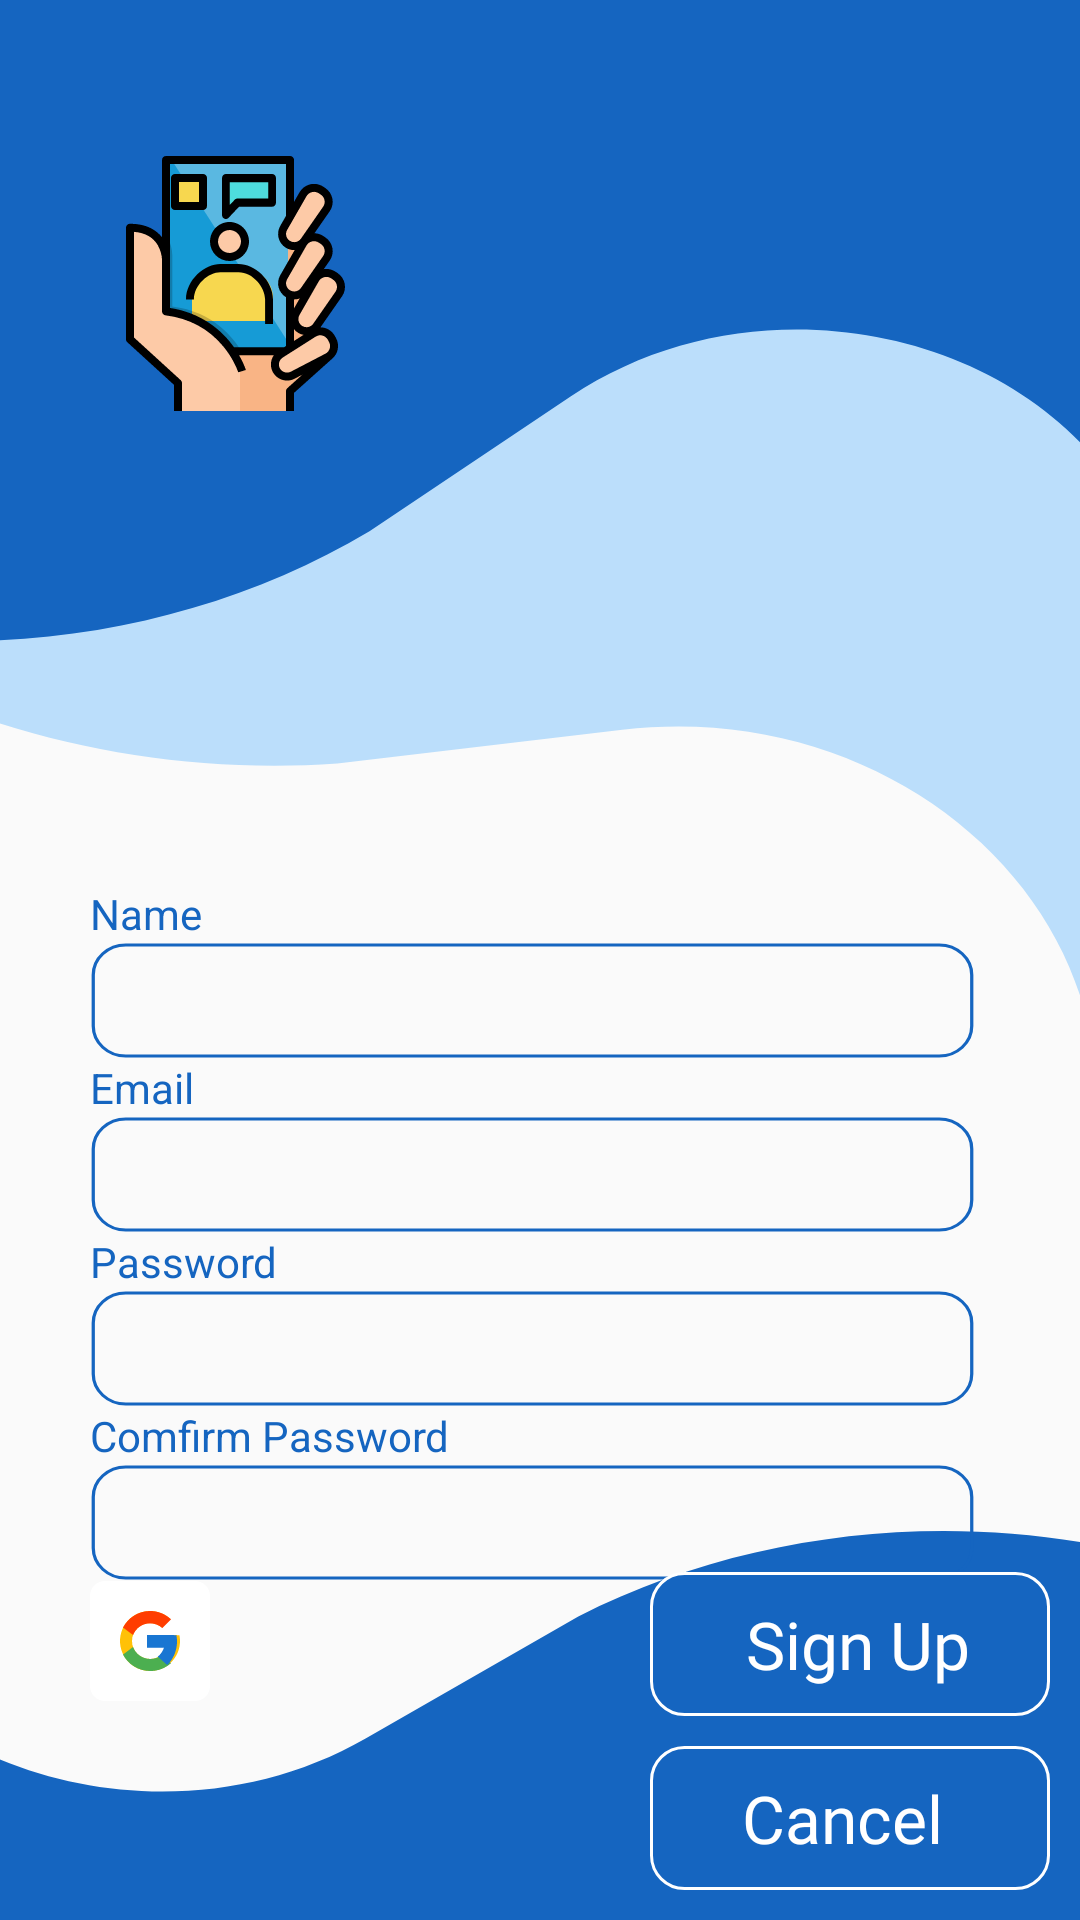

Icon bounding boxes for this 1080×1920 phone screenshot, format box(x1, y1, x2, y2):
video calling colorfull: box(126, 156, 345, 411)
